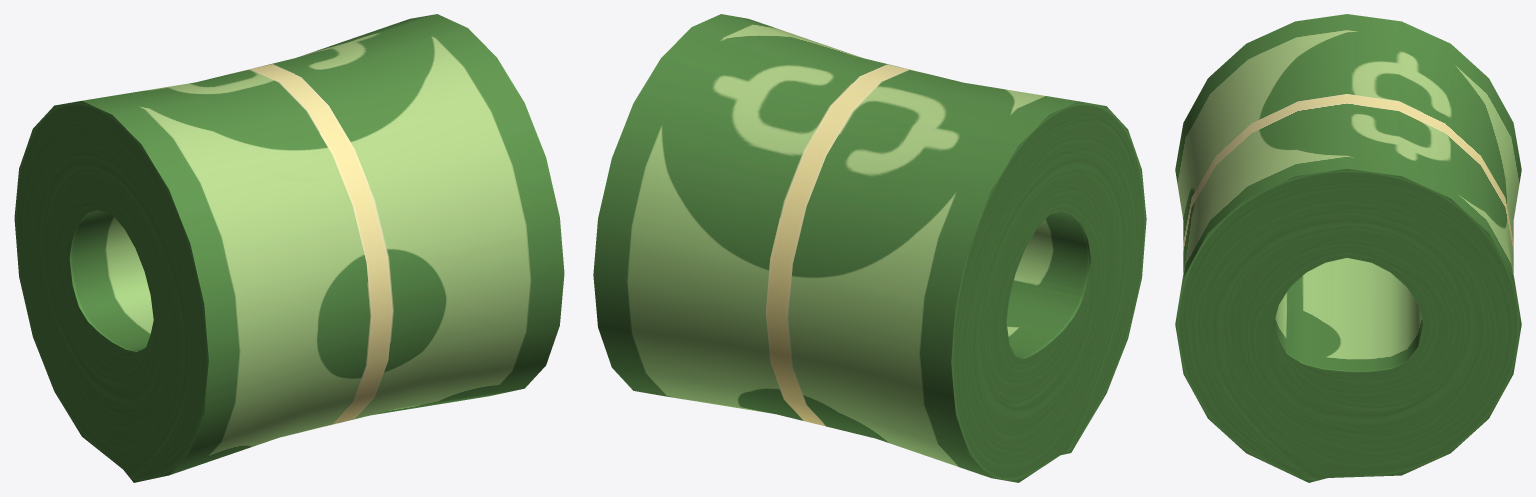
File: RollofCash.fbx
The picture shows the model from 3 angles, left to right: view 1: azimuth 30°, elevation 25°; view 2: azimuth 150°, elevation 25°; view 3: azimuth 270°, elevation 25°; orthographic projection. The views are drawn at different scales.
Visible parts, largest first — view 1: 3__RollCash; view 2: 3__RollCash; view 3: 3__RollCash.
Part boxes in pixels (x1,y1,x2,y2): 3__RollCash: [14, 14, 564, 482]; 3__RollCash: [593, 14, 1146, 482]; 3__RollCash: [1175, 14, 1521, 482].
Size of the model in its own units: 77.51 by 73.4 by 73.37.
Materials: 1 (1 with a texture image).
